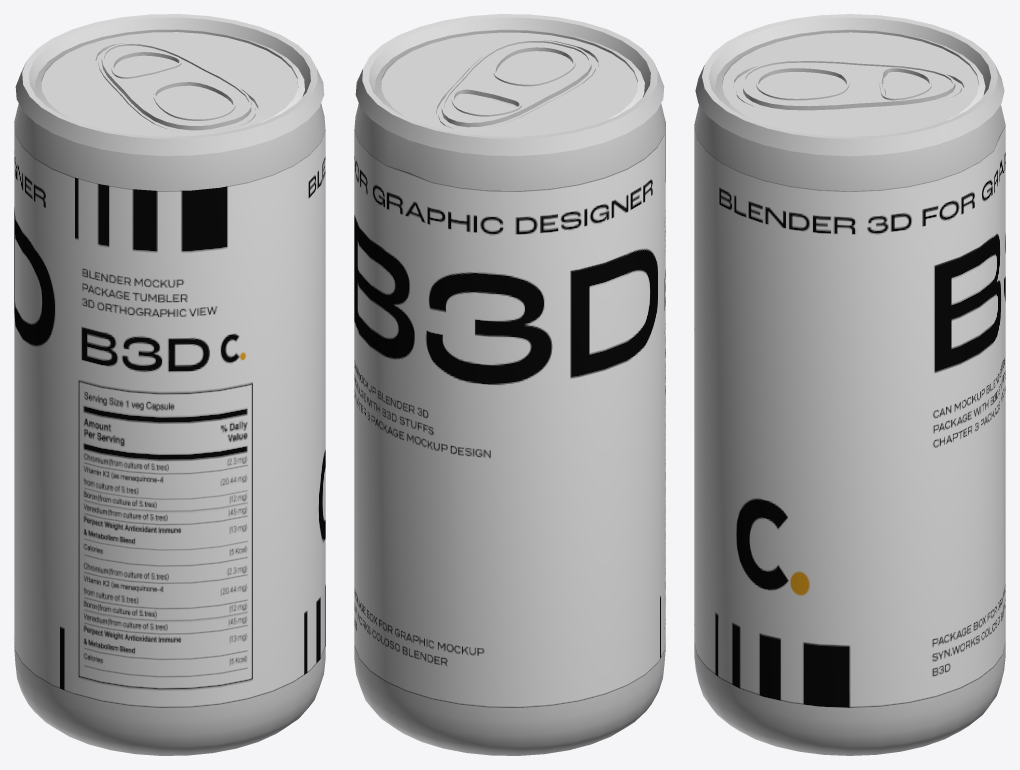
Rendered from 13_Can.gltf.
The picture shows the model from 3 angles, left to right: view 1: azimuth 30°, elevation 25°; view 2: azimuth 150°, elevation 25°; view 3: azimuth 270°, elevation 25°; orthographic projection.
Parts seen in each view (by area): view 1: Cylinder.063; view 2: Cylinder.063; view 3: Cylinder.063.
Part boxes in pixels (<box>): Cylinder.063: <box>14,14,325,755</box>; Cylinder.063: <box>354,14,665,755</box>; Cylinder.063: <box>694,14,1005,755</box>.
Size of the model in its own units: 0.8089 by 1.78 by 0.8089.
2 materials, 1 textured.
